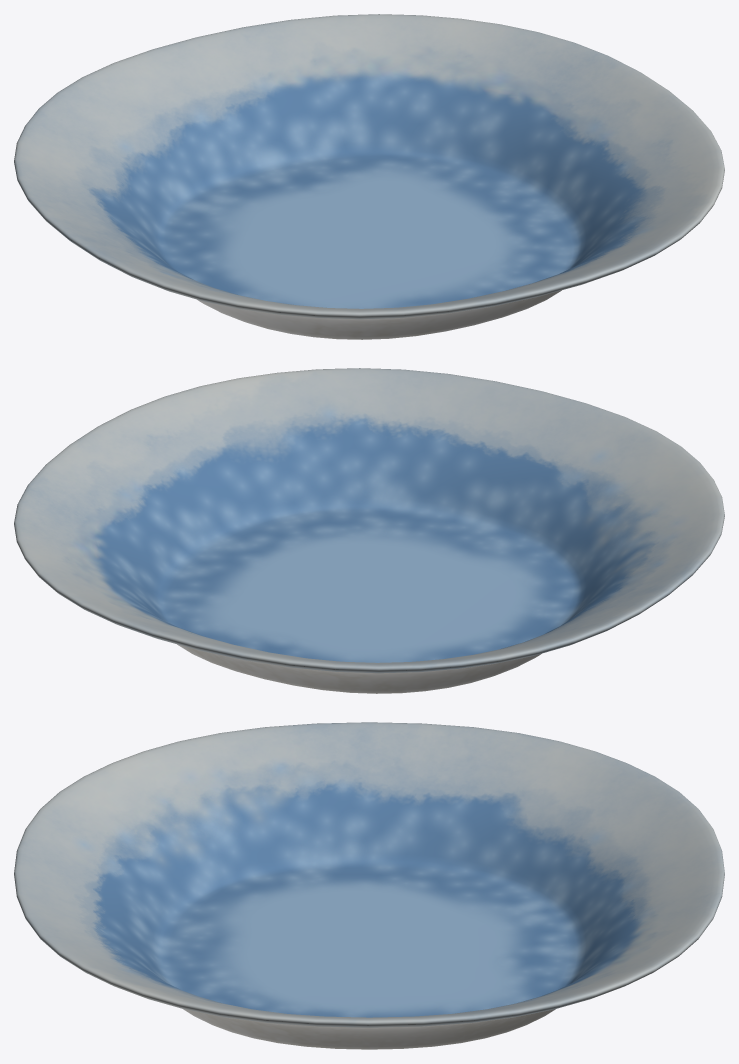
Rendered from Plato3.glb.
3 renders of one model, top to bottom at view 1: azimuth 30°, elevation 25°; view 2: azimuth 150°, elevation 25°; view 3: azimuth 270°, elevation 25°, orthographic. The views are drawn at different scales.
Parts seen in each view (by area): view 1: Plane; view 2: Plane; view 3: Plane.
Part boxes in pixels (x1=…): Plane: x1=14, y1=14, x2=724, y2=339; Plane: x1=14, y1=368, x2=724, y2=693; Plane: x1=14, y1=722, x2=724, y2=1049.
Size of the model in its own units: 0.25 by 0.035 by 0.25.
1 material, 1 textured.
